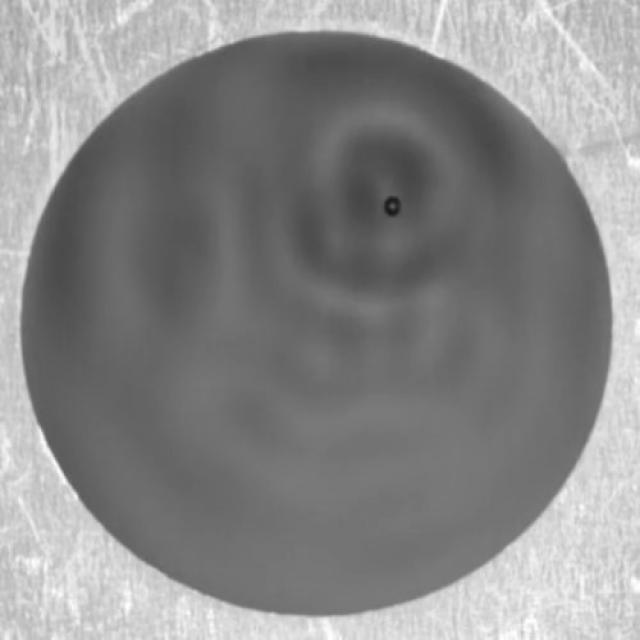droplet: (383, 193, 403, 219)
